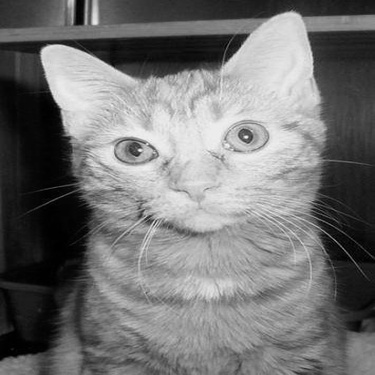cat: (37, 8, 348, 372)
